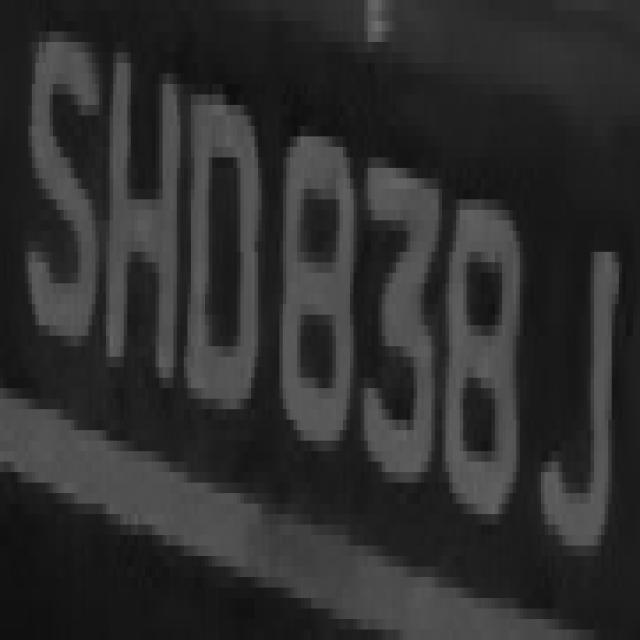3: (361, 105, 438, 525)
8: (435, 178, 523, 556), (268, 95, 354, 472)
D: (184, 53, 262, 430)
H: (106, 21, 180, 441)
J: (537, 210, 619, 545)
S: (32, 21, 106, 399)
